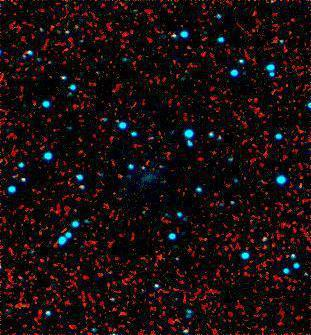star: (103, 162, 133, 192)
